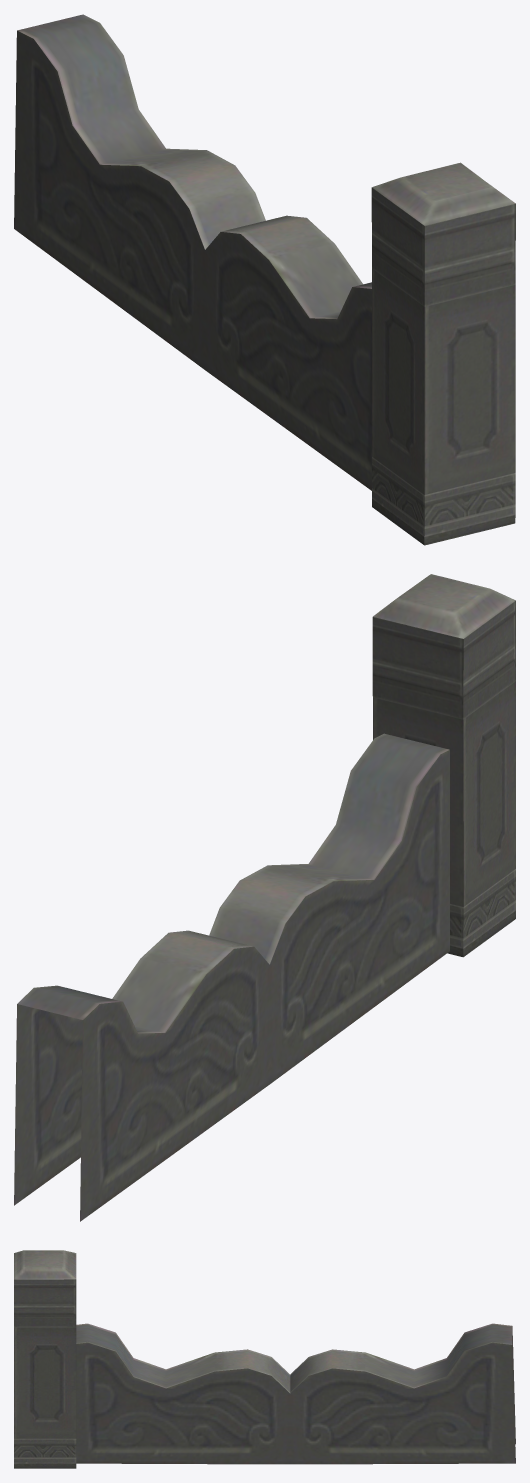
Rendered from City_bujian_26.fbx.
3 views of the same model, one above another, from view 1: azimuth 30°, elevation 25°; view 2: azimuth 150°, elevation 25°; view 3: azimuth 270°, elevation 25° (orthographic). The views are drawn at different scales.
Parts seen in each view (by area): view 1: City_1_2017_3_7_2:City_1_2017_3_7_2:polySurface3716; view 2: City_1_2017_3_7_2:City_1_2017_3_7_2:polySurface3716; view 3: City_1_2017_3_7_2:City_1_2017_3_7_2:polySurface3716.
Boxes of the visible parts, bbox=[...] form: City_1_2017_3_7_2:City_1_2017_3_7_2:polySurface3716: bbox=[14, 14, 515, 545]; City_1_2017_3_7_2:City_1_2017_3_7_2:polySurface3716: bbox=[14, 574, 515, 1221]; City_1_2017_3_7_2:City_1_2017_3_7_2:polySurface3716: bbox=[14, 1250, 515, 1468].
Bounding box in the file's own units: 0.6689 × 2.33 × 5.37.
